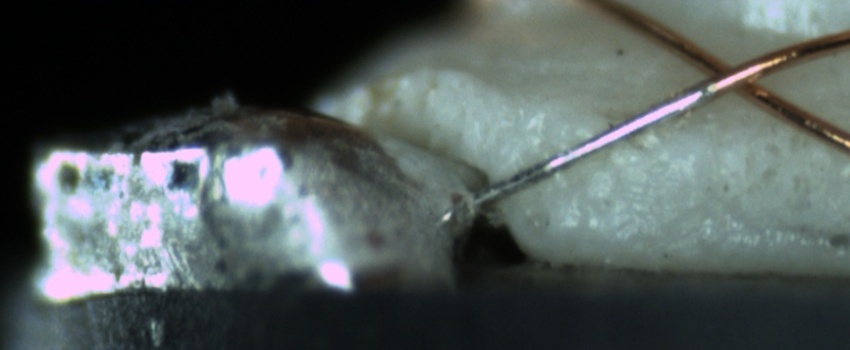CL: (684, 44, 781, 105)
TS: (473, 86, 709, 207)
